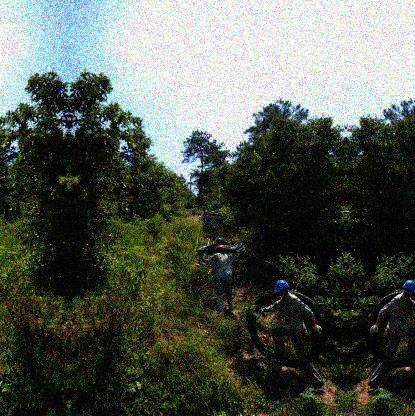helmet: (275, 280, 289, 297), (402, 279, 415, 297), (216, 237, 225, 248)
